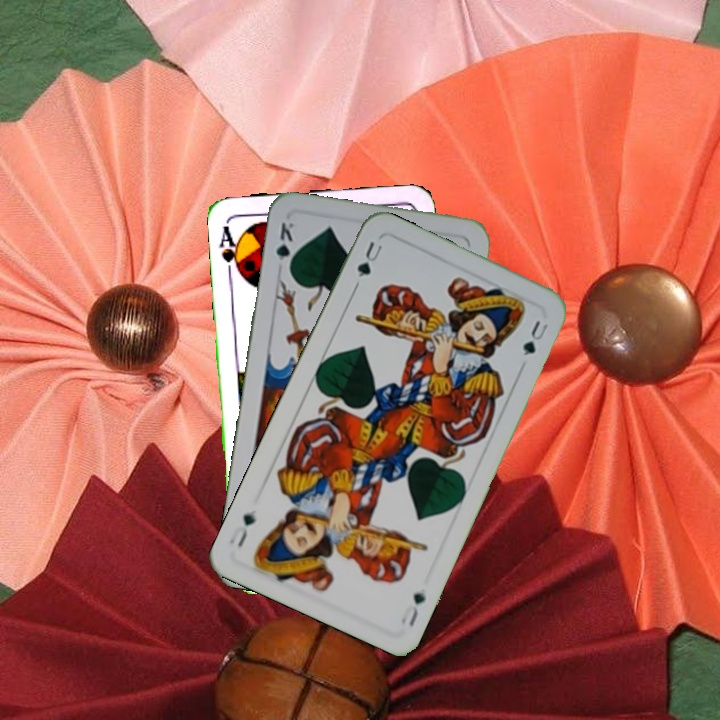GK: (271, 218, 297, 276)
GU: (352, 237, 385, 281), (396, 588, 429, 630)
SA: (216, 221, 245, 279)
